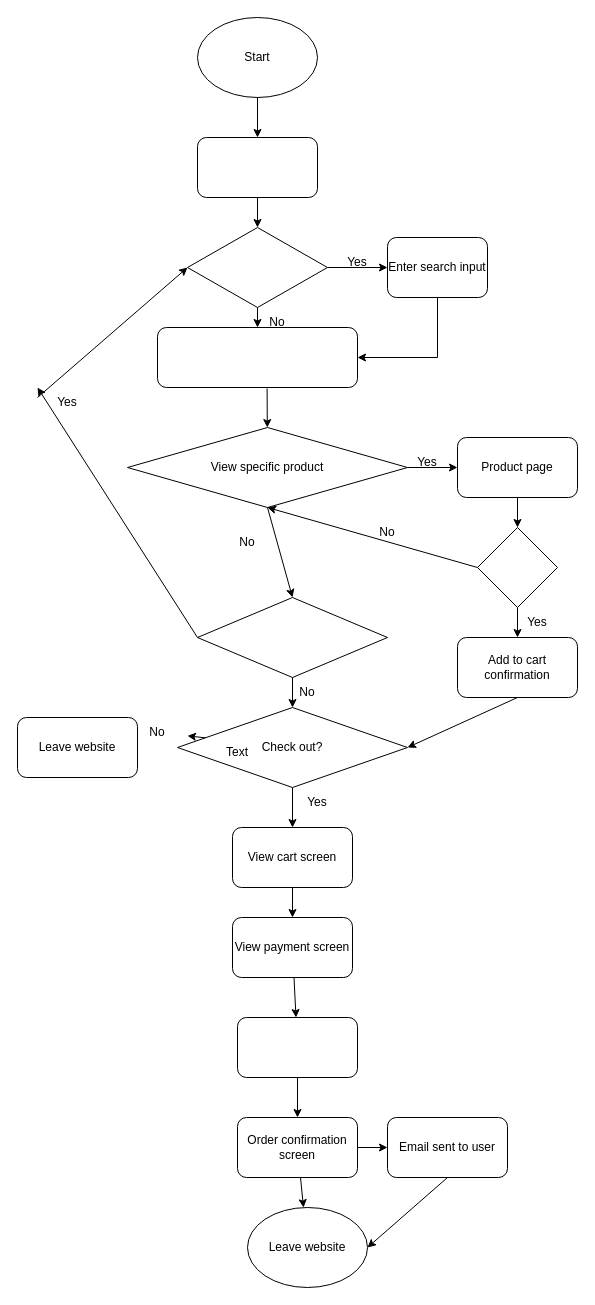
The diagram is 595 pixels wide and 1305 high, and some of its shapes have lost their labels. The centre of each missing label's shape, as x and y in pixels:
"Add to cart?" goes at point (517, 567).
"Browse products" goes at point (257, 357).
"Continue shopping?" goes at point (292, 637).
"Enter payment information" goes at point (297, 1047).
"Enter Website" goes at point (257, 167).
"Search for product?" goes at point (257, 267).
